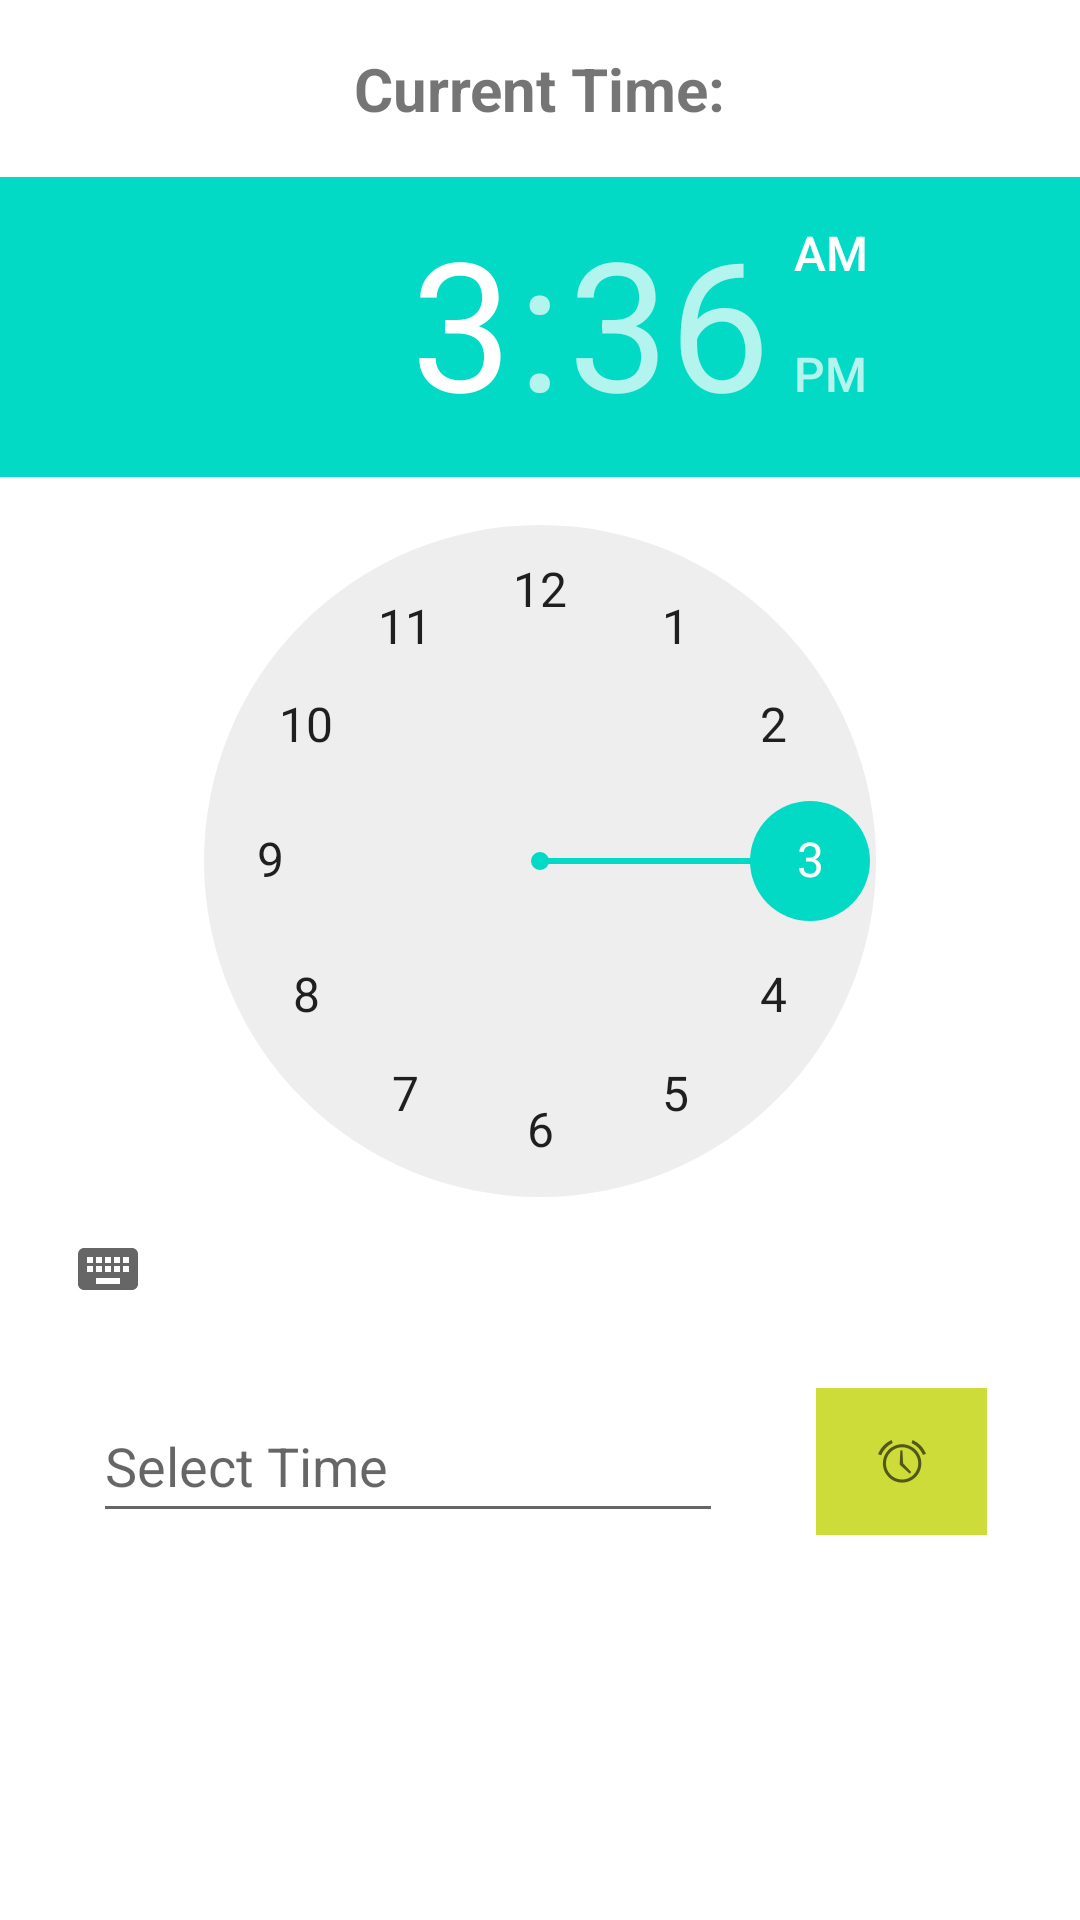

Icon bounding boxes for this 1080 × 1920 phone screenshot, format (x1, y1, x2, y2):
lock idle alarm: (816, 1388, 987, 1535)
